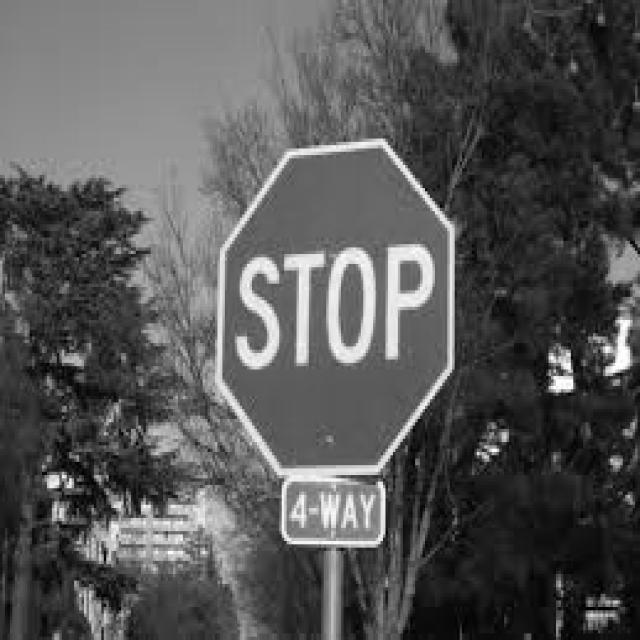stop sign: (220, 147, 454, 546)
